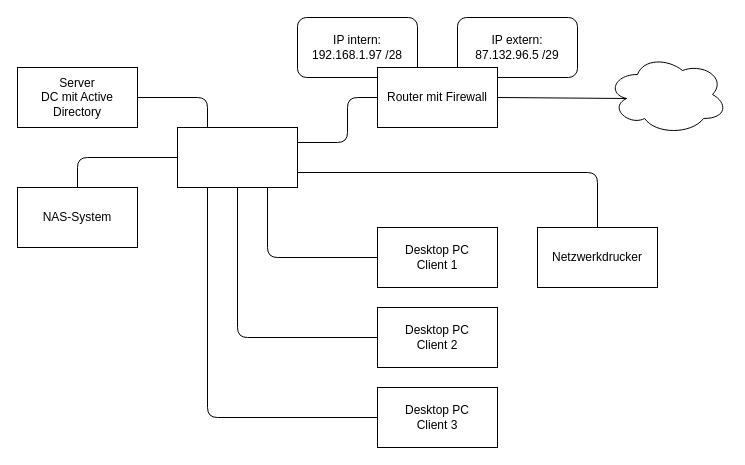
Some shapes in this 745 by 465 pixel diagram are drawn without their labels. Each missing label, with the box of its shape:
Internet: (606, 54, 728, 134)
Switch: (176, 126, 298, 188)
